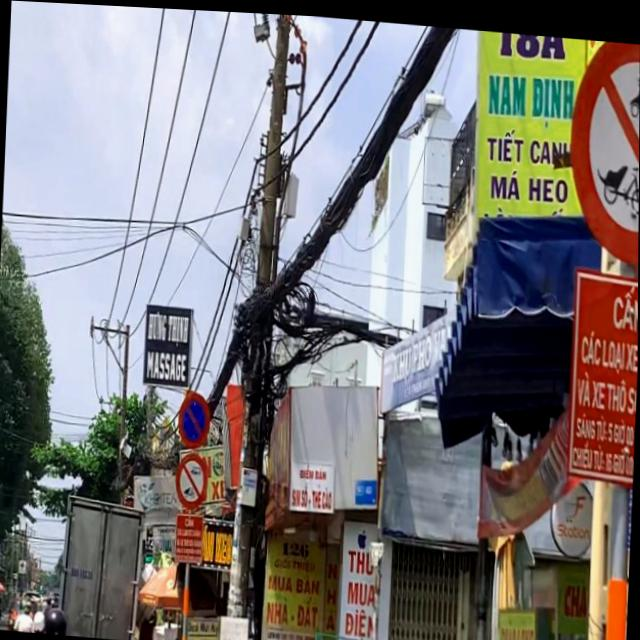Cam do xe: (178, 389, 212, 447)
